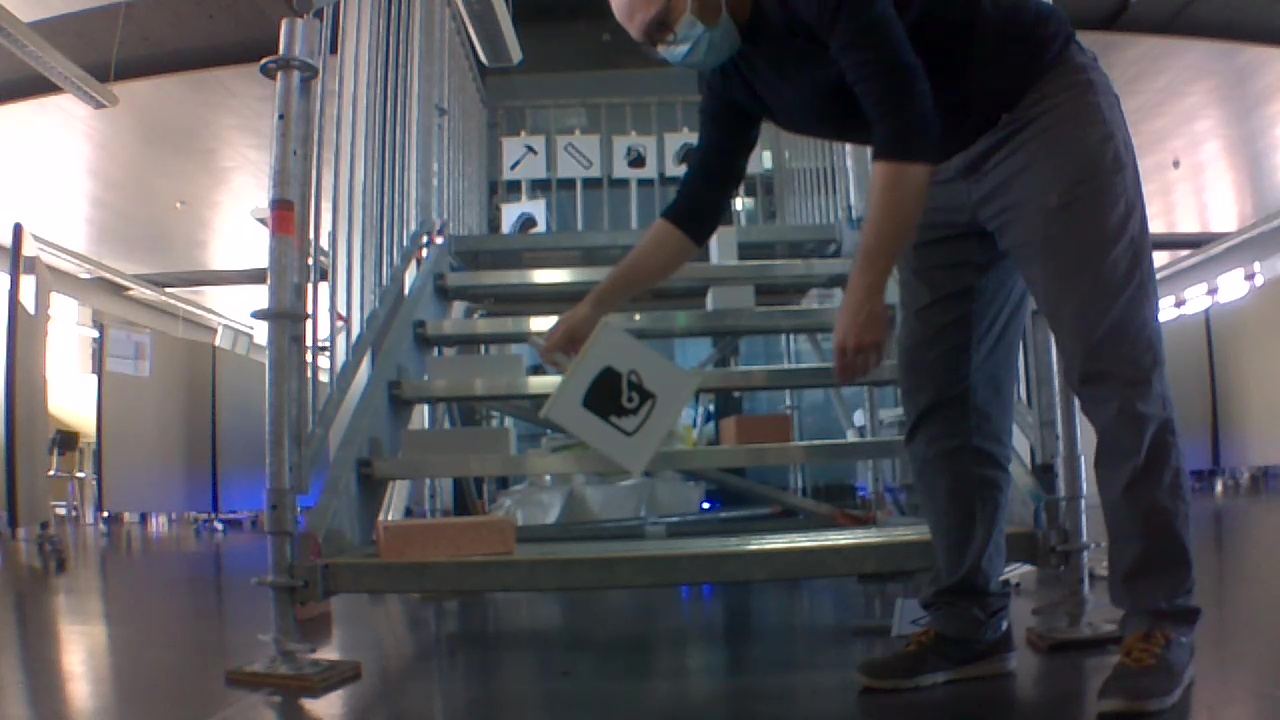brick: (377, 514, 514, 562), (403, 428, 514, 459), (425, 355, 523, 378), (720, 415, 791, 443), (708, 285, 753, 310), (711, 225, 737, 263)
bucket: (574, 360, 661, 443), (616, 141, 649, 171)
edge: (325, 531, 1039, 589)
hammer: (505, 140, 542, 172)
ruler: (560, 140, 595, 172)
taco: (668, 139, 696, 168), (508, 209, 539, 234)
